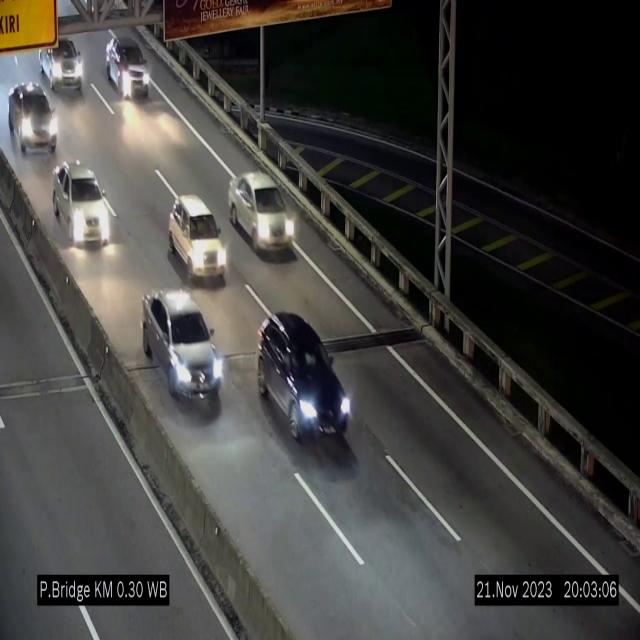Car: (254, 309, 352, 447), (141, 287, 222, 405), (226, 169, 296, 257), (50, 160, 110, 251), (168, 194, 228, 284), (7, 80, 59, 156), (106, 32, 150, 98), (38, 40, 84, 94)
Motorcycle: (117, 41, 136, 104)
